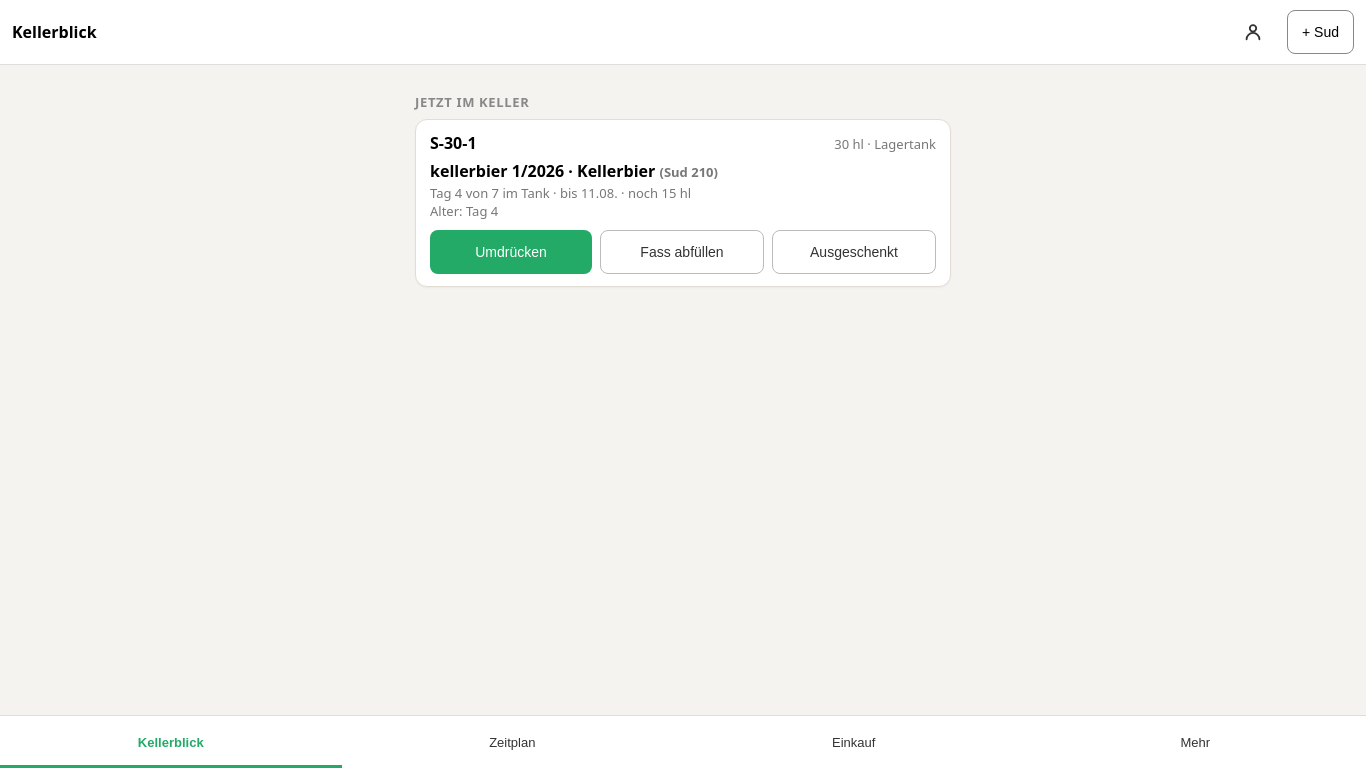
Test: zeigt Prozess-Warnungen aus einem Transfer als schließbares Banner
Click the button "Umdrücken".
click(511, 252)  # box [430,230,592,274]
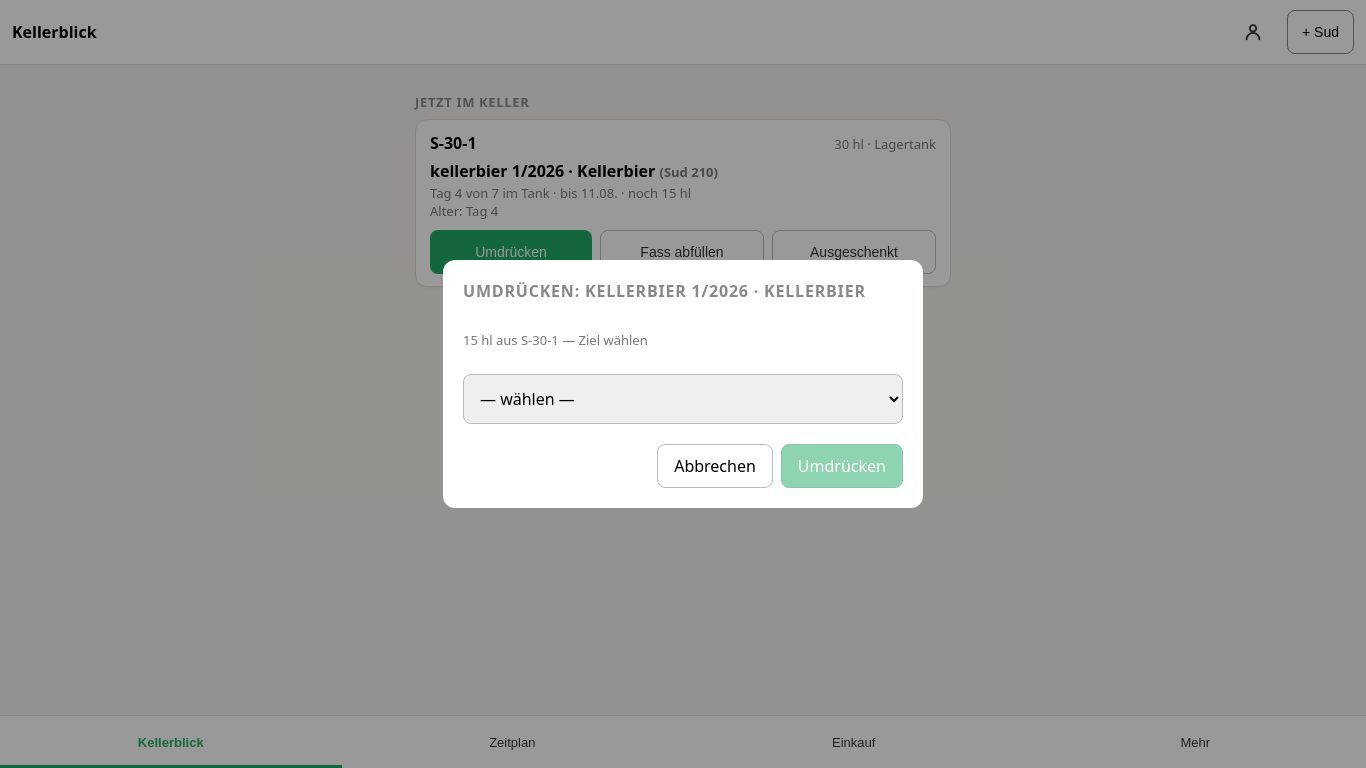
Select "A-100 (100 hl)" in the dropdown named "Zieltank" at (683, 399), box [463,374,903,424]
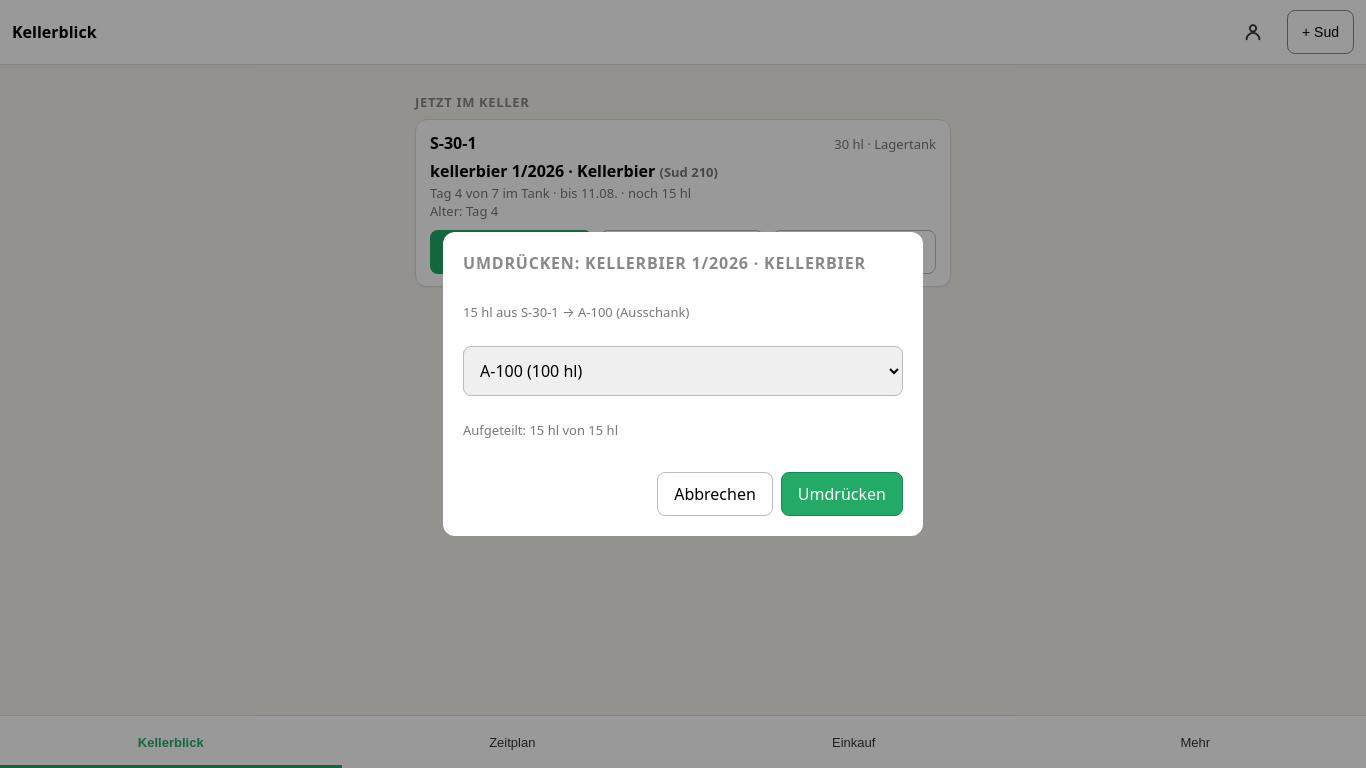
Click the button "Umdrücken".
click(842, 494)  # box [781,472,903,516]
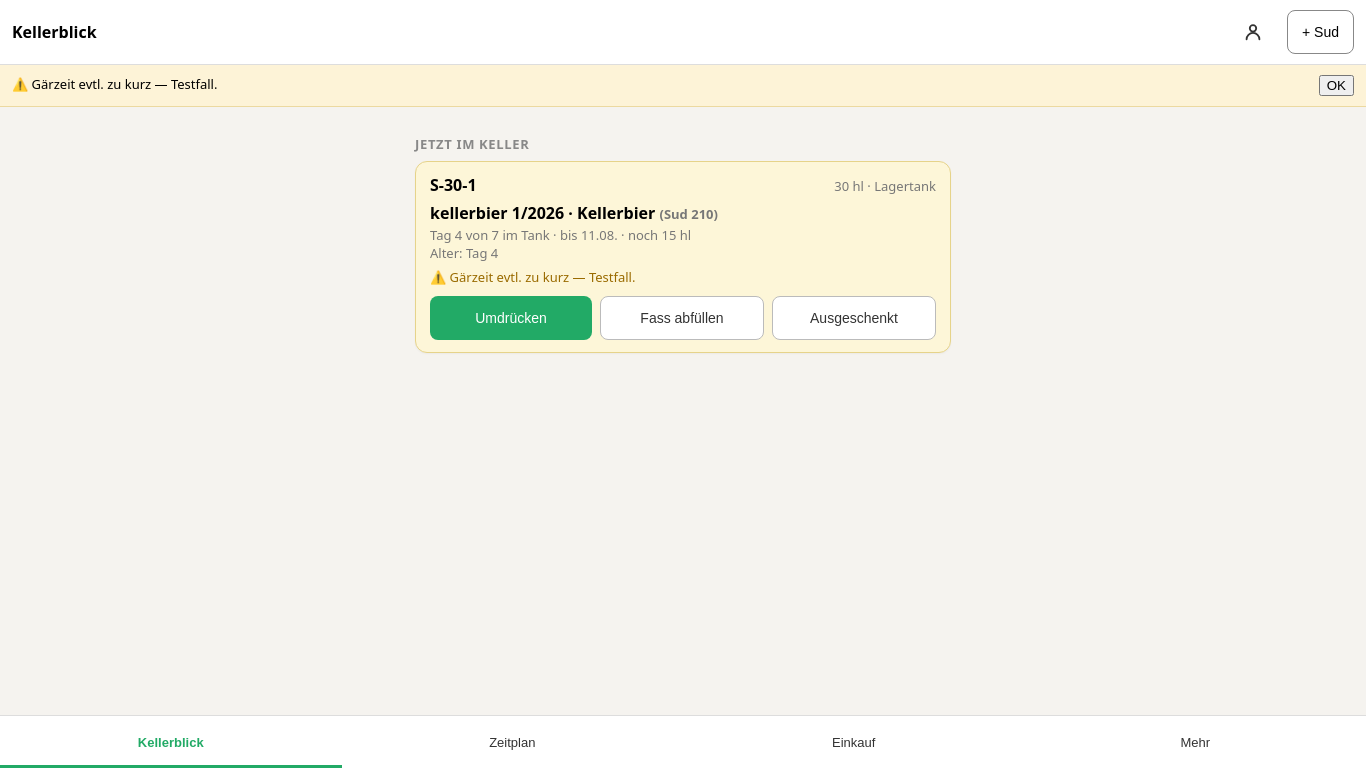
Now the 1st text "⚠️ Gärzeit evtl. zu kurz — Testfall." is shown, box [12,75,218,93]
Click the button "OK".
click(1336, 86)  # box [1319,75,1354,96]
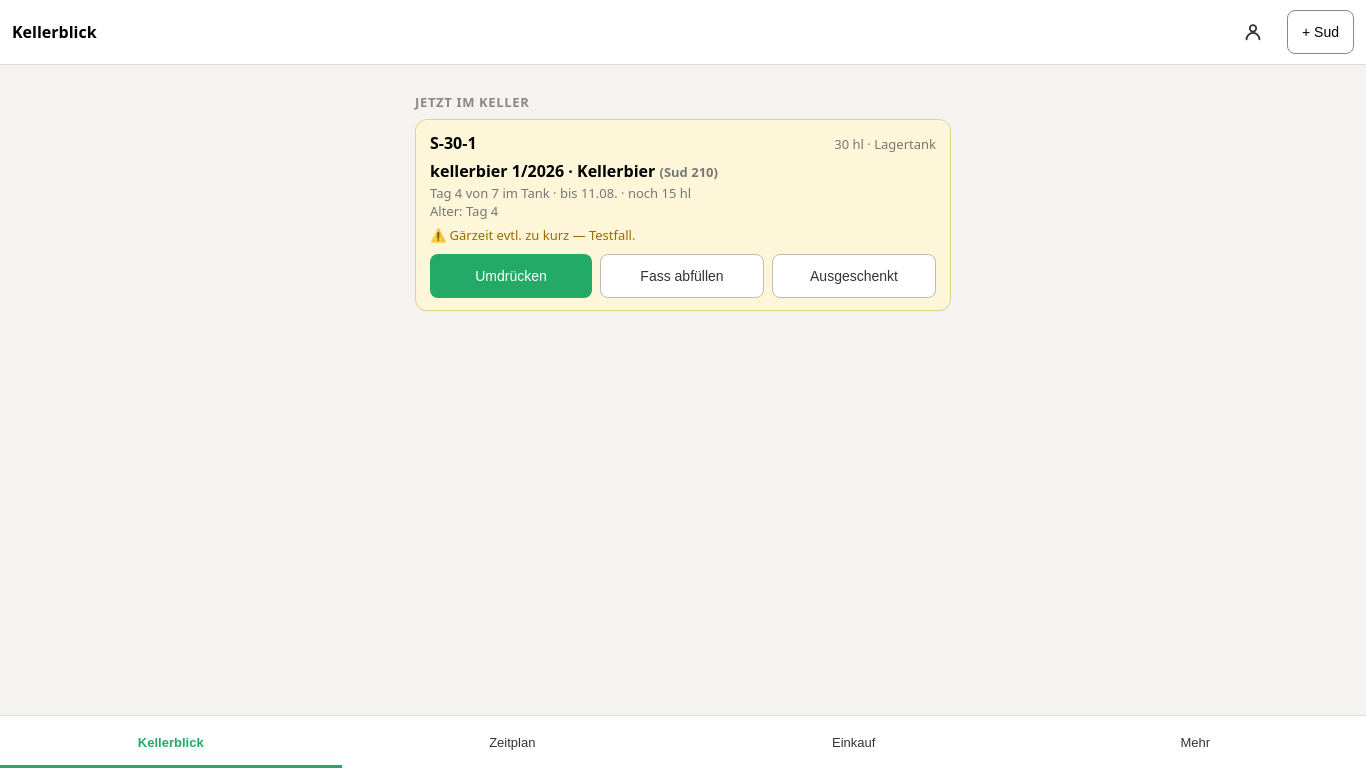
Now the message "⚠️ Gärzeit evtl. zu kurz — Testfall. OK" is gone
